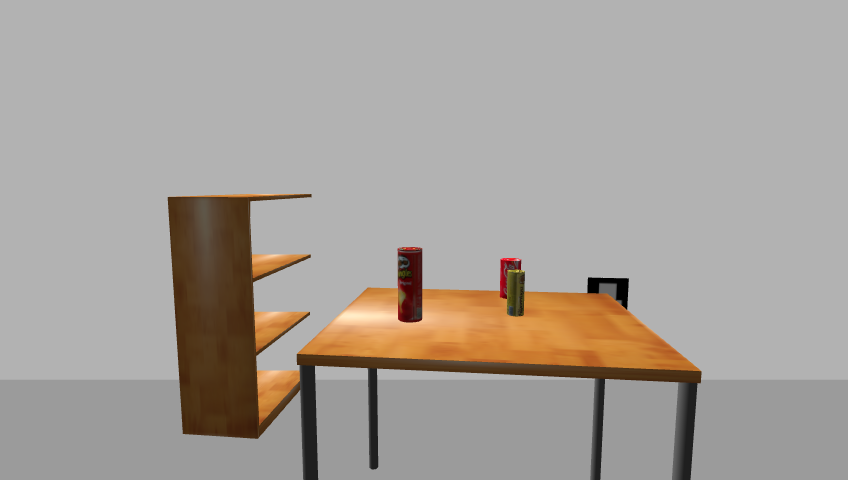aruco marker: (584, 276, 633, 313)
biscuits pack: (508, 269, 526, 317)
bookshelf: (163, 191, 319, 441)
coke can: (498, 257, 522, 298)
dinner table: (291, 286, 709, 479)
pringles can: (396, 246, 424, 325)
